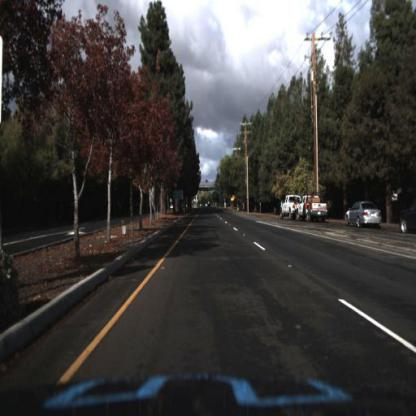car: (344, 200, 385, 230), (345, 202, 383, 225), (296, 197, 329, 221), (279, 194, 302, 222)
